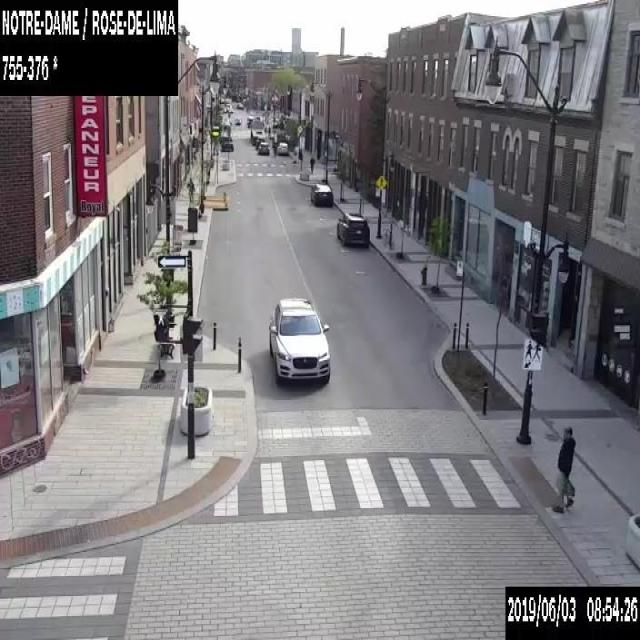pedestrian: (552, 424, 576, 513), (186, 176, 195, 202), (309, 156, 314, 173)
vehicle: (268, 297, 330, 388), (336, 213, 369, 244), (310, 183, 332, 205), (250, 116, 264, 145), (220, 135, 233, 150), (276, 142, 288, 154), (258, 141, 269, 154), (256, 135, 264, 148), (268, 129, 274, 138), (236, 101, 243, 108), (234, 117, 240, 124), (264, 125, 269, 132)
